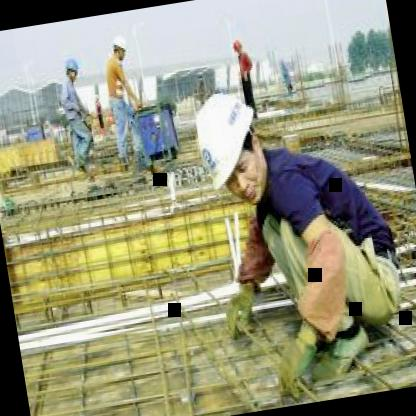helmet: (184, 76, 278, 216), (59, 54, 83, 88), (109, 33, 130, 63), (230, 36, 247, 61)
